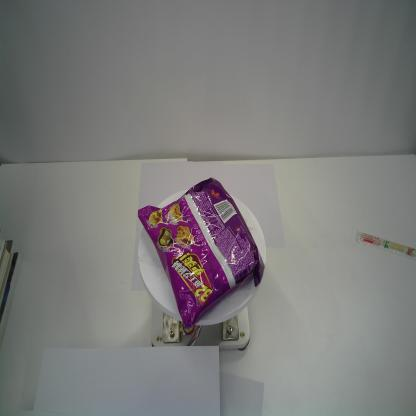Instant Noodles: (138, 176, 266, 330)
